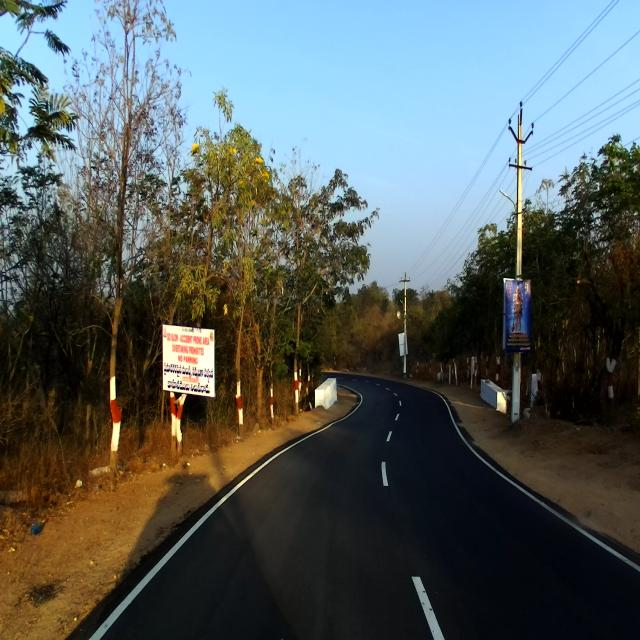electric pole ahead at: (500, 96, 540, 424)
tree ahead at: (99, 287, 134, 473), (229, 314, 249, 430)
